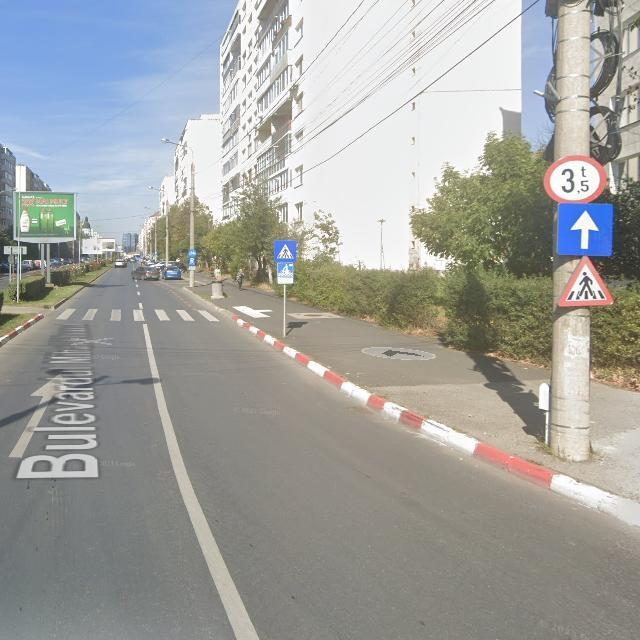info_crosswalk: (274, 241, 297, 261)
warn_crosswalk: (559, 256, 614, 307)
